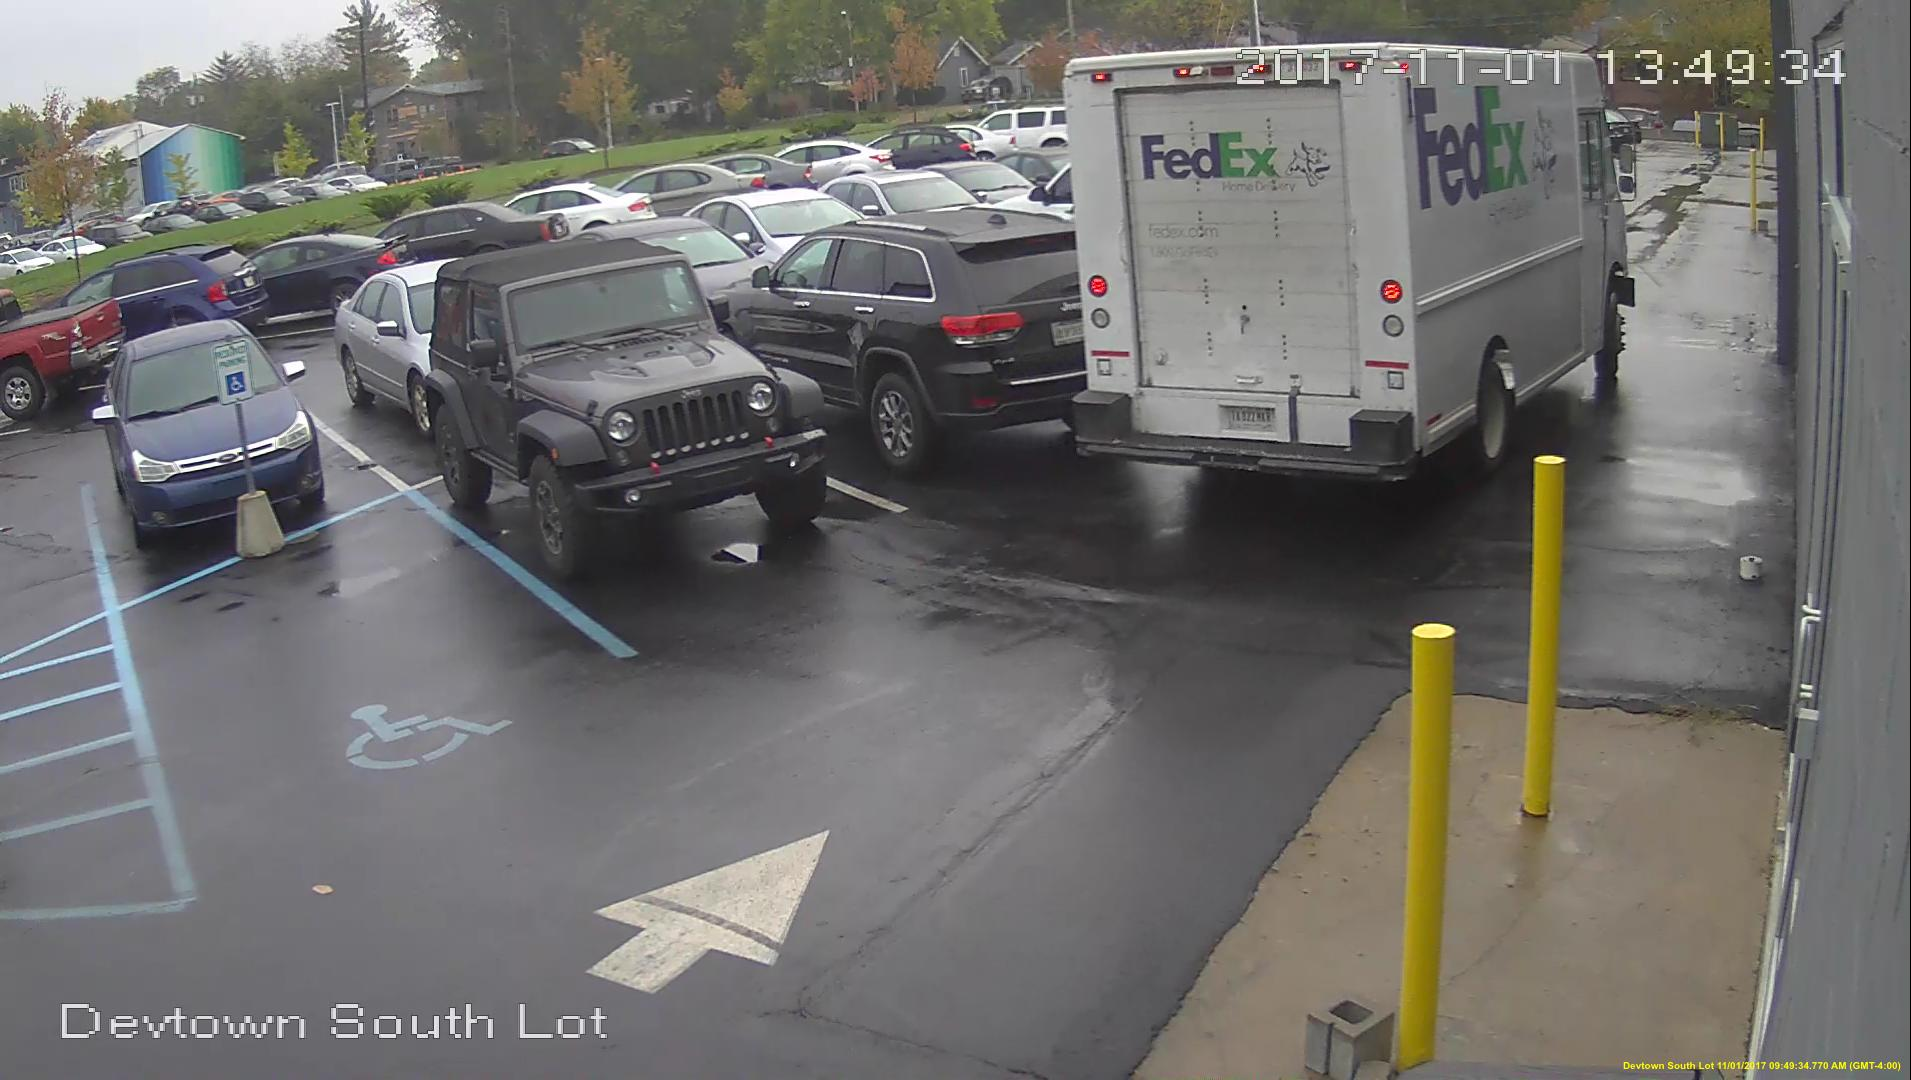fedex_truck: (1070, 51, 1629, 486)
